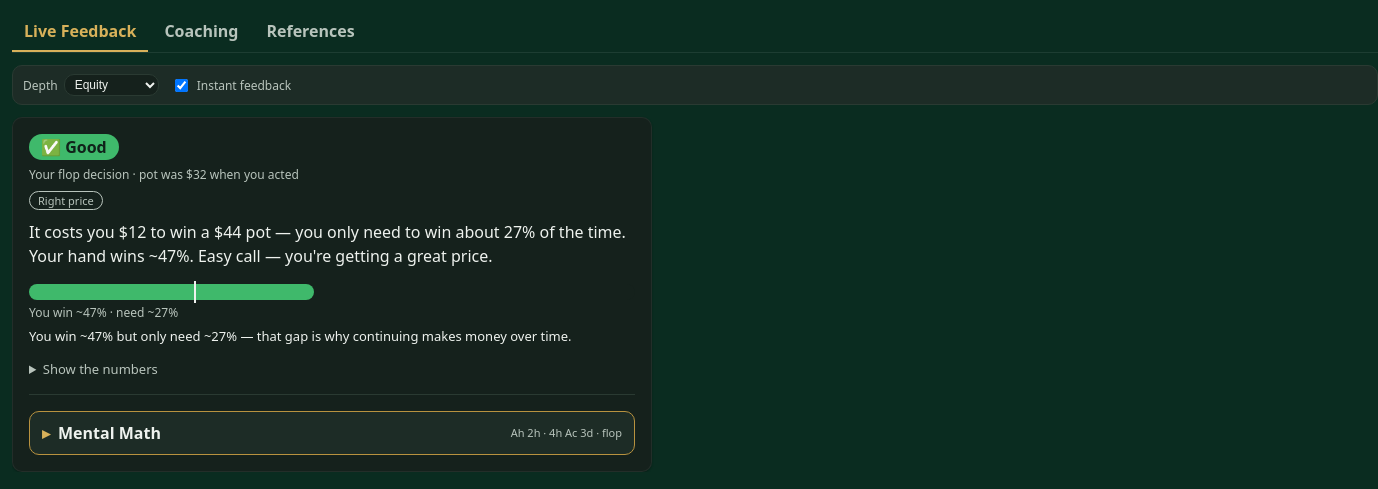
it: RightPanel › toggling instant feedback off/on in-play hides/shows the live verdict panel
Expected: the text "✅ Good" is shown, [29,134,119,160]
Note: Toggle feedback OFF in-play.
Click the checkbox with test id "inplay-feedback-toggle" at x=181, y=85, box [175,78,188,92]
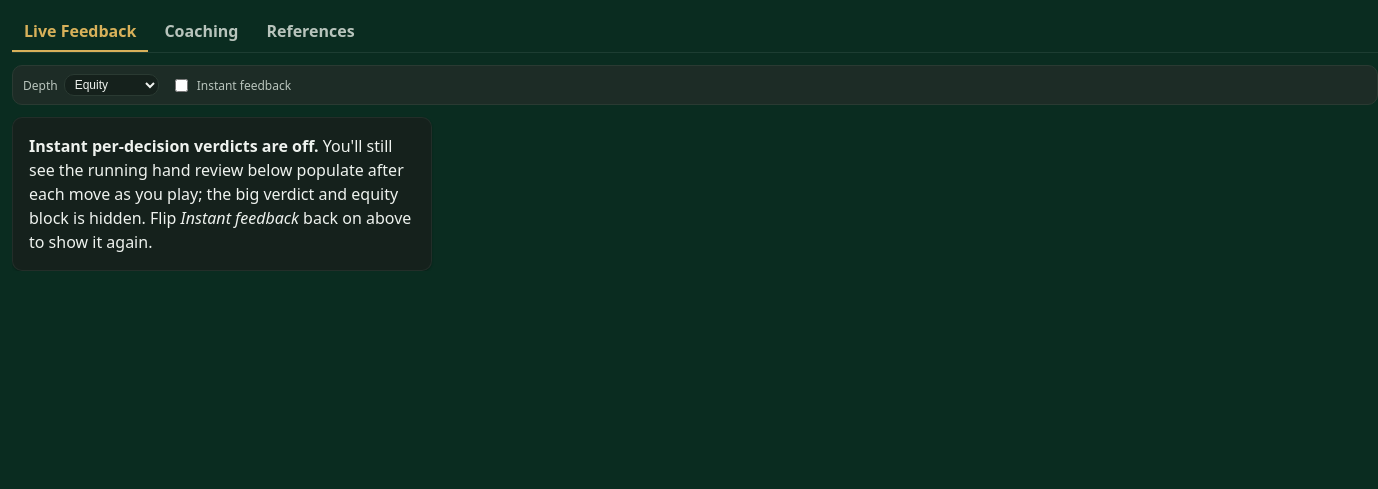
Expected: the text with test id "verdict-badge" is gone
Expected: the element with test id "feedback-off" is shown, [12,117,432,271]
Note: Toggle back ON.
Click the checkbox with test id "inplay-feedback-toggle" at x=181, y=85, box [175,78,188,92]
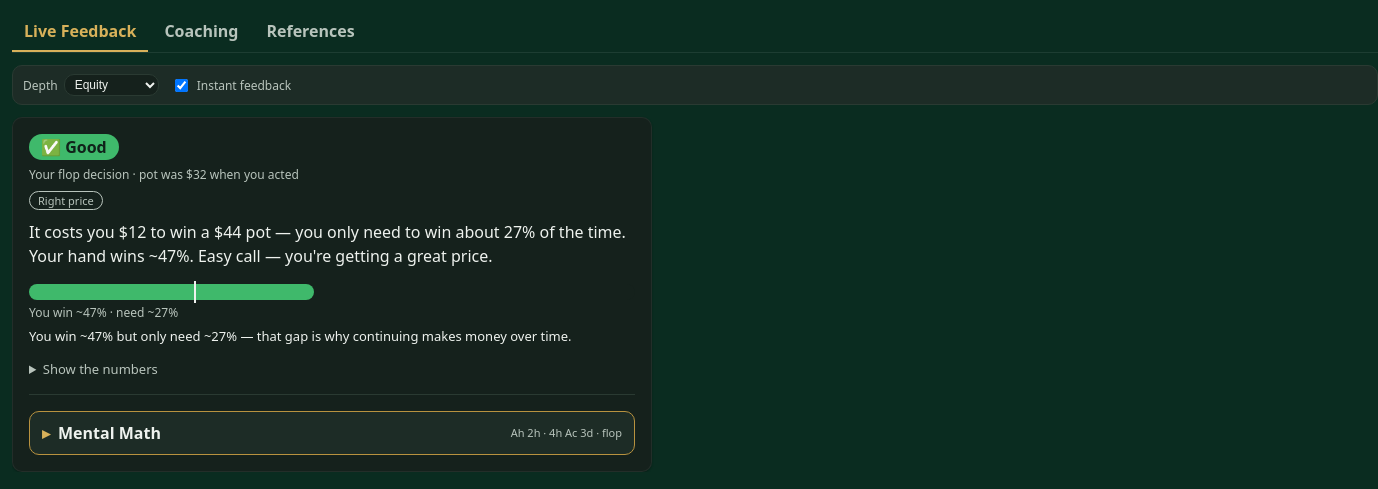
Expected: the text "✅ Good" is shown, [29,134,119,160]
